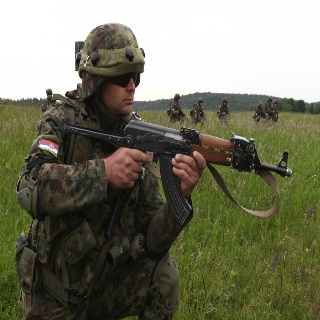rifle: (63, 116, 295, 226)
